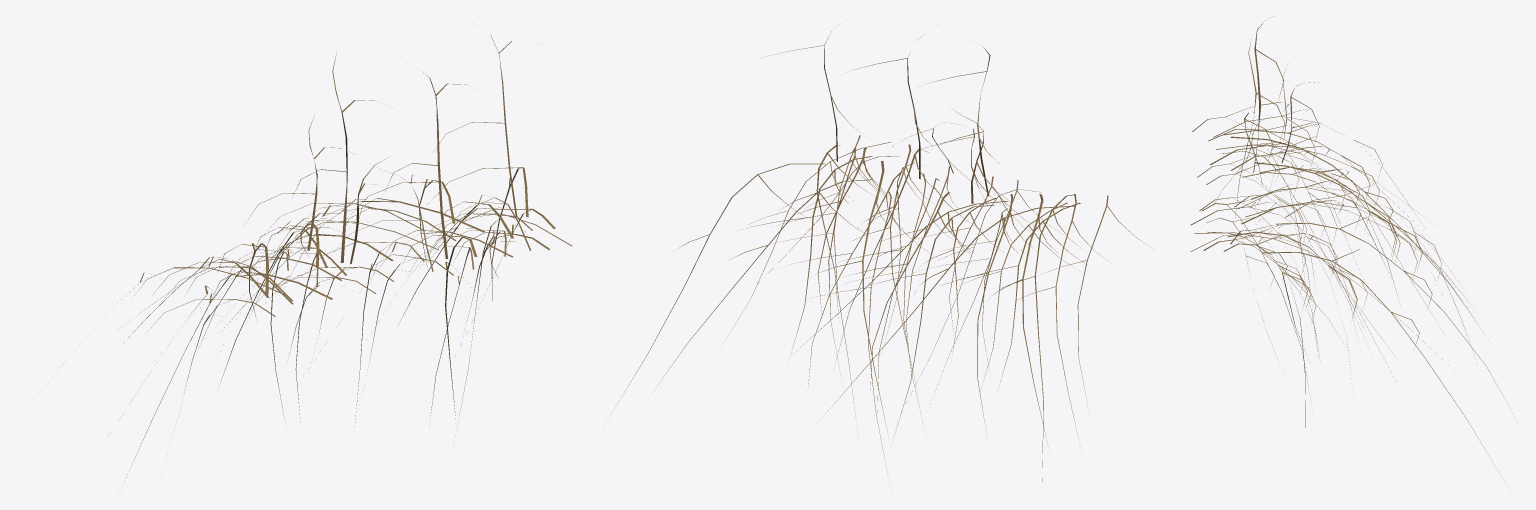
Rendered from Model_TrenchDryGrass.glb.
3 views of the same model, side by side, from view 1: azimuth 30°, elevation 25°; view 2: azimuth 150°, elevation 25°; view 3: azimuth 270°, elevation 25° (orthographic). The views are drawn at different scales.
Parts seen in each view (by area): view 1: TrenchDryGrass; view 2: TrenchDryGrass; view 3: TrenchDryGrass.
Part boxes in pixels (left/top/right/bottom): TrenchDryGrass: left=62, top=22, right=572, bottom=477; TrenchDryGrass: left=614, top=31, right=1149, bottom=481; TrenchDryGrass: left=1190, top=20, right=1516, bottom=481.
Bounding box in the file's own units: 1.5 × 1.24 × 0.9885.
